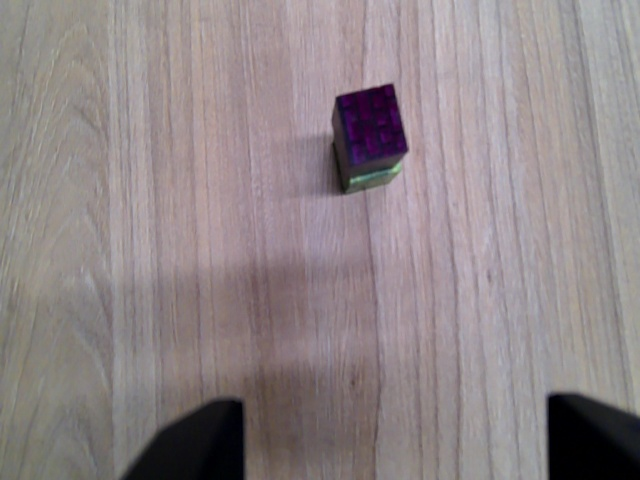brick: (334, 79, 409, 177)
